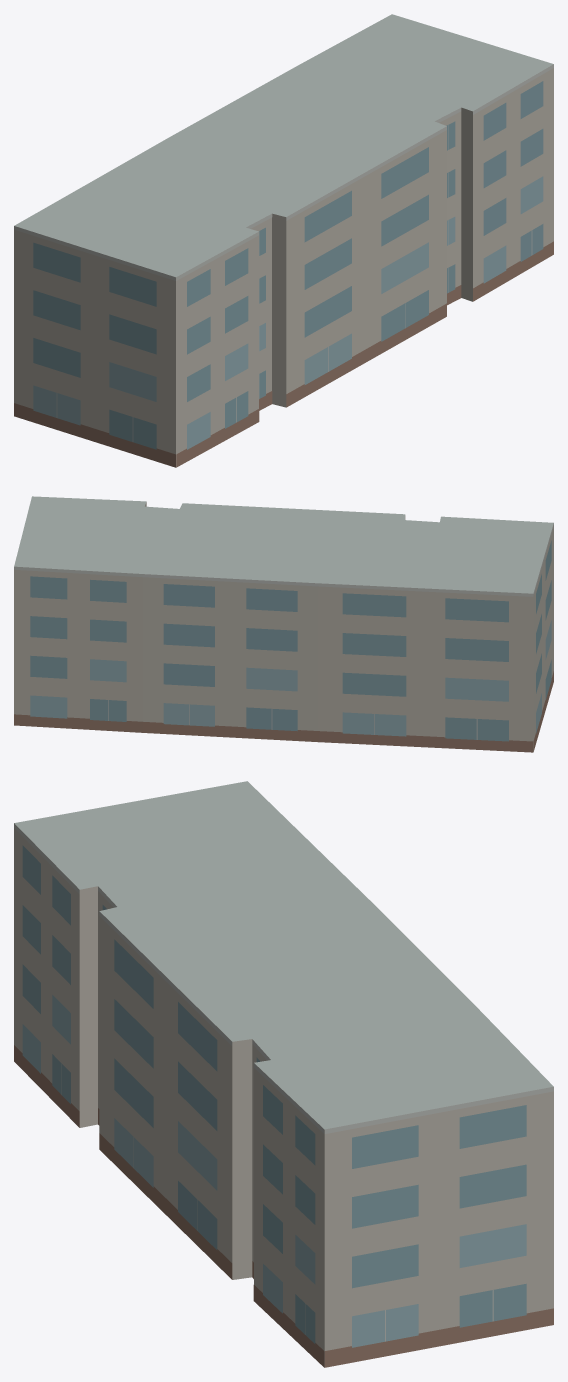
The model's file is survey-upis-32758673.glb.
3 renders of one model, top to bottom at view 1: azimuth 30°, elevation 25°; view 2: azimuth 150°, elevation 25°; view 3: azimuth 270°, elevation 25°, orthographic. The views are drawn at different scales.
Parts seen in each view (by area): view 1: survey-upis-32758673.tmp; view 2: survey-upis-32758673.tmp; view 3: survey-upis-32758673.tmp.
Boxes of the visible parts, <box> form: survey-upis-32758673.tmp: <box>14,14,553,467</box>; survey-upis-32758673.tmp: <box>14,496,553,752</box>; survey-upis-32758673.tmp: <box>14,781,553,1367</box>.
Size of the model in its own units: 38.57 by 12.3 by 25.26.
